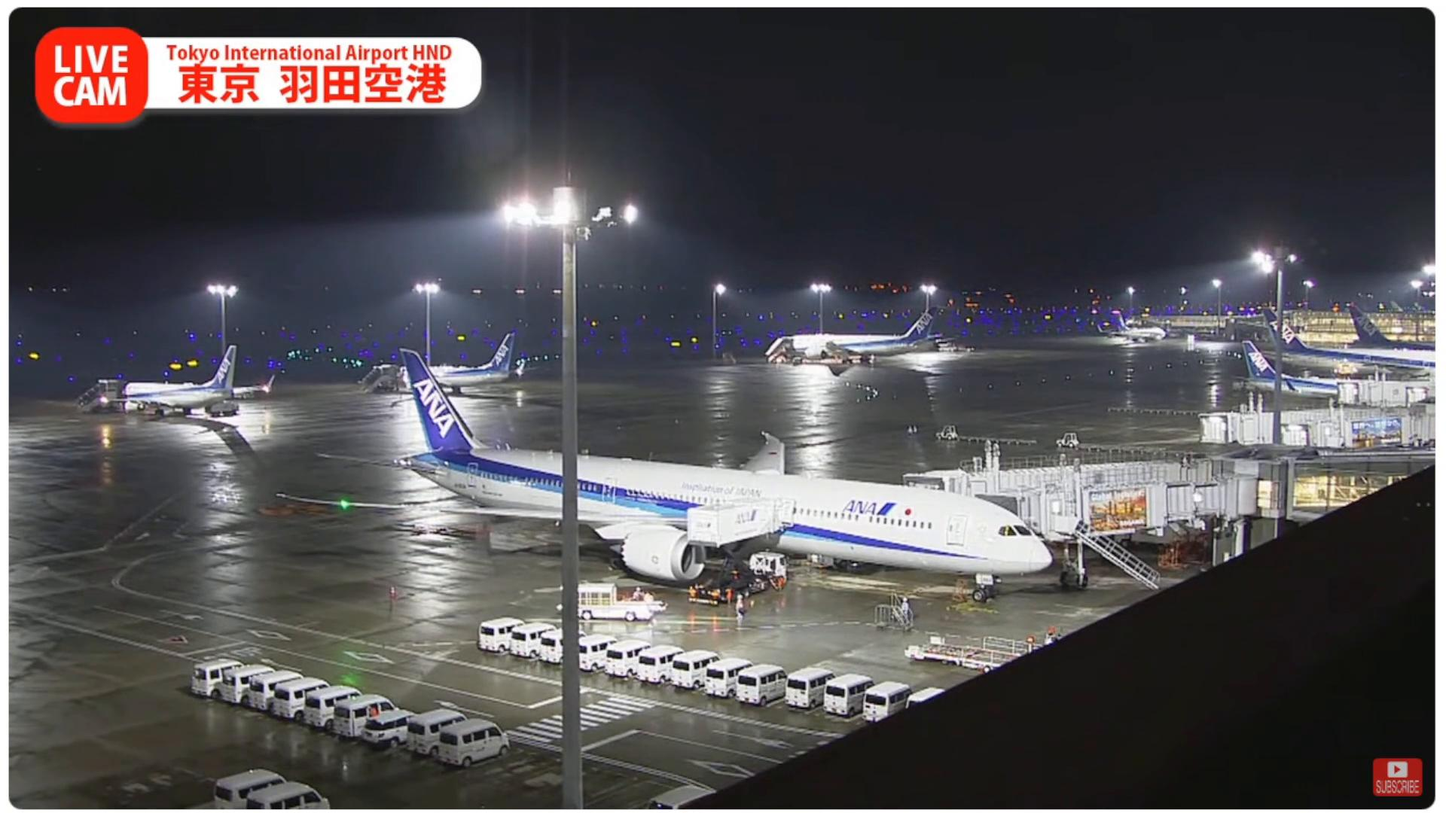Aerobridge: (904, 454, 1290, 516), (978, 469, 1279, 540)
Airplane: (266, 343, 1061, 583)
Catering: (686, 491, 789, 610)
JCPL: (904, 639, 1017, 673), (937, 630, 1051, 655)
Skyloader: (577, 580, 676, 626)
Window: (1291, 459, 1429, 518)
